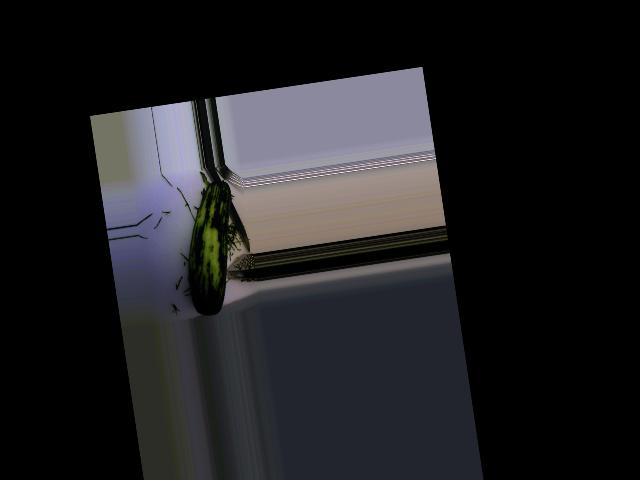cucumber: (174, 178, 248, 317)
